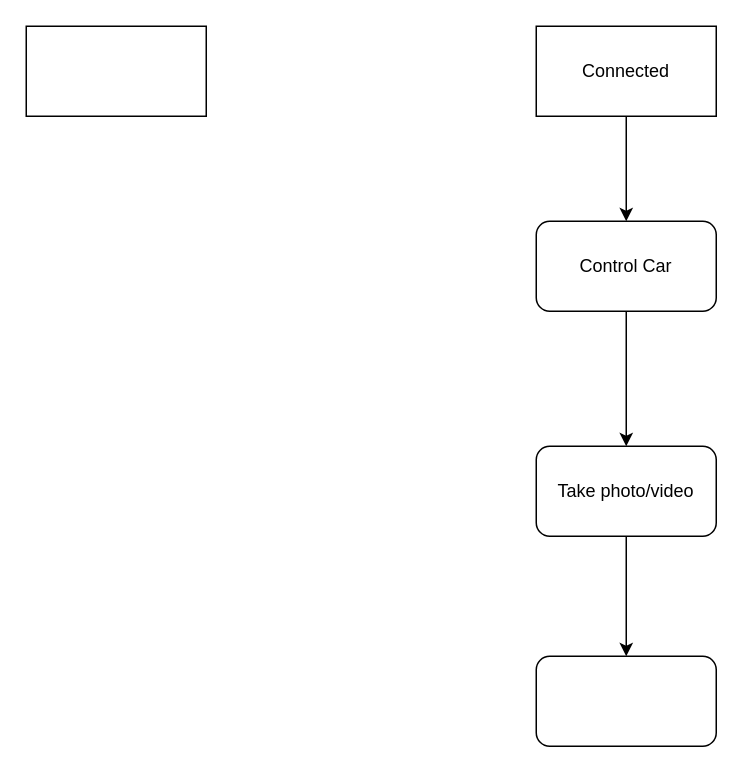
Some shapes in this 743 by 773 pixel diagram are drawn without their labels. Each missing label, with the centre of its shape:
"Disconnected" belongs at point 115,70.
"Upload photo/video" belongs at point 625,700.
